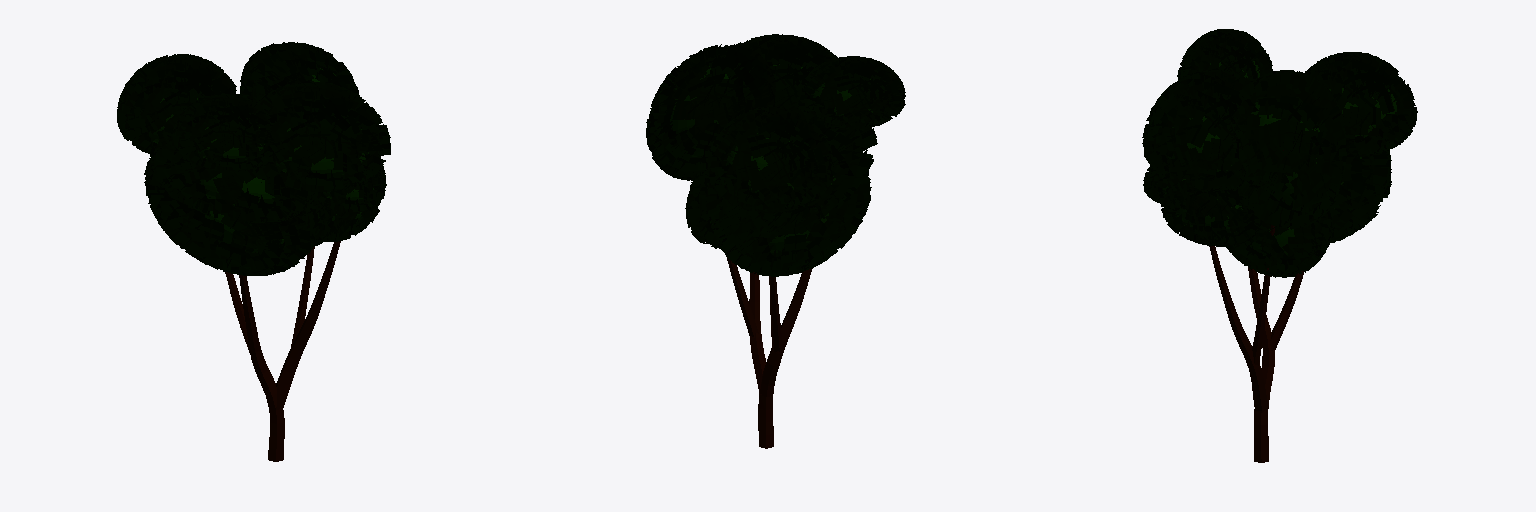
File: arvere.obj
3 views of the same model, side by side, from view 1: azimuth 30°, elevation 25°; view 2: azimuth 150°, elevation 25°; view 3: azimuth 270°, elevation 25° (orthographic).
Visible parts, largest first — view 1: Plane.008, Plane.010, Plane.003, Plane.004, Plane.006, tree, Plane.001, Plane.005, Plane.007; view 2: Plane.001, Plane.003, Plane.010, Plane.006, Plane.004, tree, Plane.008, Plane.009; view 3: Plane.001, Plane.008, Plane.003, tree, Plane.005, Plane.009, Plane.006, Plane.004, Plane.010, Plane.007.
Part boxes in pixels (x1,y1,x2,y2): Plane.008: (255,81,390,191); Plane.010: (144,155,315,275); Plane.003: (117,54,240,155); Plane.004: (151,140,309,223); Plane.006: (173,94,274,171); tree: (225,241,340,461); Plane.001: (240,42,359,102); Plane.005: (302,185,385,241); Plane.007: (308,154,386,212); Plane.001: (646,44,775,180); Plane.003: (707,107,833,212); Plane.010: (713,176,871,276); Plane.006: (796,56,905,129); Plane.004: (706,107,877,239); tree: (727,257,812,448); Plane.008: (737,34,837,108); Plane.009: (685,171,720,248); Plane.001: (1228,70,1346,229); Plane.008: (1142,70,1250,192); Plane.003: (1305,52,1417,156); tree: (1209,150,1303,462); Plane.005: (1161,178,1259,246); Plane.009: (1225,208,1332,277); Plane.006: (1177,29,1273,80); Plane.004: (1330,143,1391,211); Plane.010: (1329,165,1391,244); Plane.007: (1143,158,1205,208).
Size of the model in its own units: 34.52 by 62.07 by 39.09.